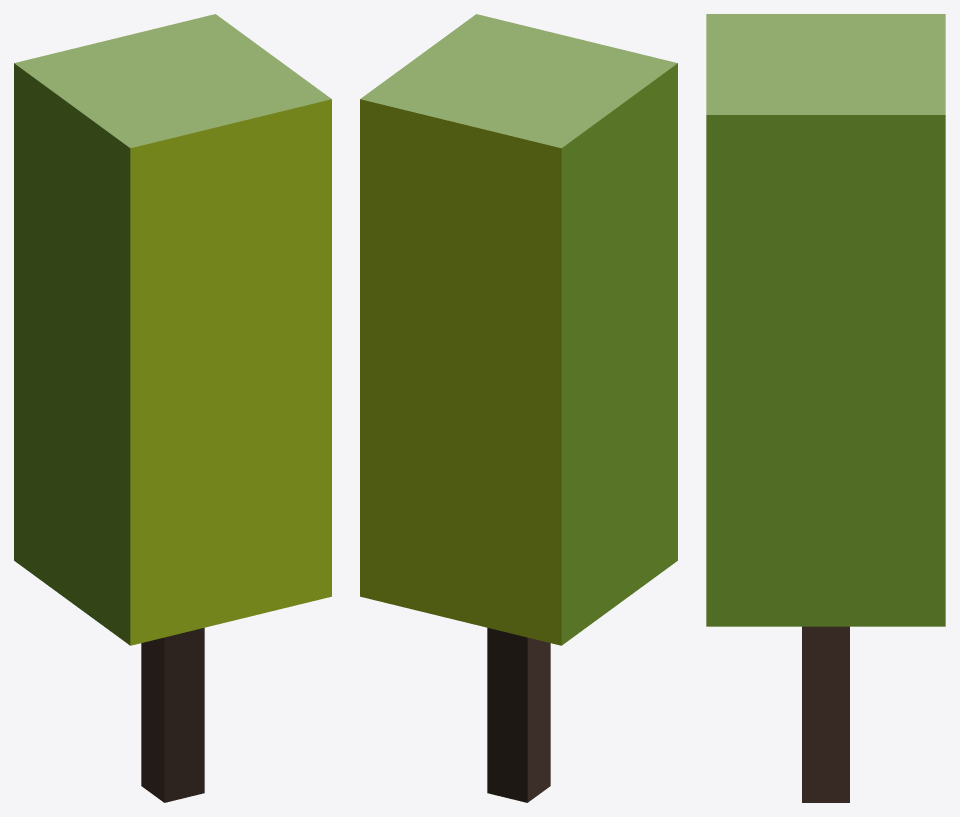
The model's file is TB_CITY_Env_Tree_Cube_B.FBX.
The picture shows the model from 3 angles, left to right: view 1: azimuth 30°, elevation 25°; view 2: azimuth 150°, elevation 25°; view 3: azimuth 270°, elevation 25°; orthographic projection. The views are drawn at different scales.
Parts seen in each view (by area): view 1: TB_CITY_Env_Tree_Cube_B; view 2: TB_CITY_Env_Tree_Cube_B; view 3: TB_CITY_Env_Tree_Cube_B.
Boxes of the visible parts, x1,y1,x2,y2 form: TB_CITY_Env_Tree_Cube_B: (14,14,331,802); TB_CITY_Env_Tree_Cube_B: (360,14,677,802); TB_CITY_Env_Tree_Cube_B: (706,14,945,802).
Bounding box in the file's own units: 1.8 × 6.05 × 1.8.
